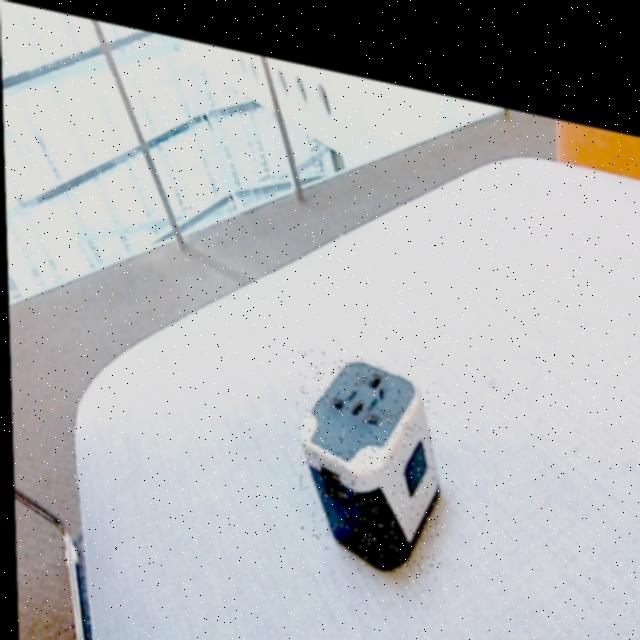adapter: (294, 332, 439, 564)
